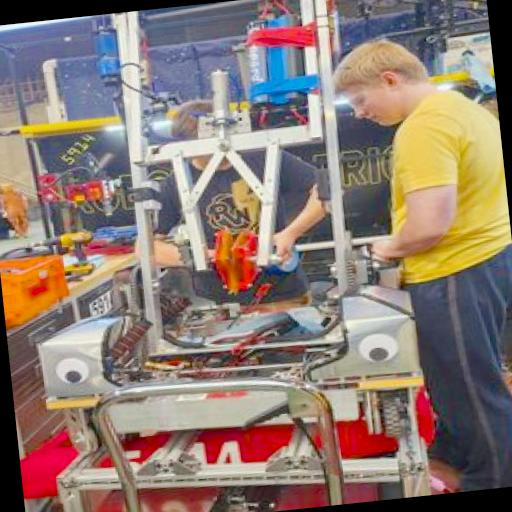robot: (0, 0, 486, 459)
